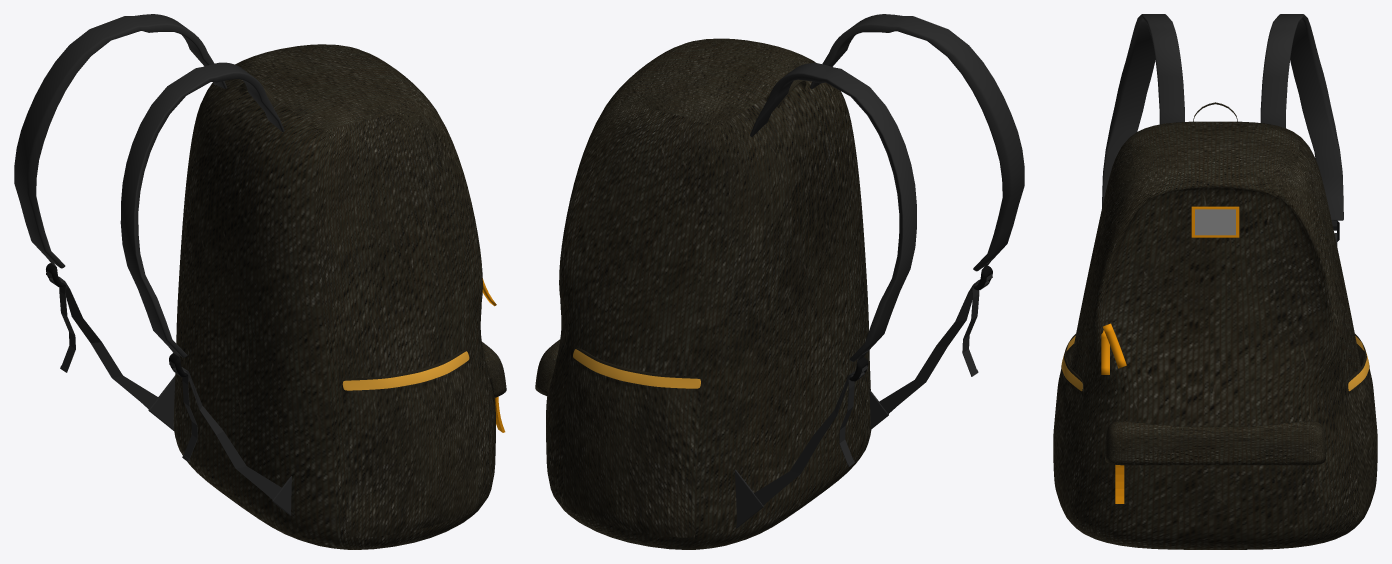
Rendered from bag01.glb.
The picture shows the model from 3 angles, left to right: view 1: azimuth 30°, elevation 25°; view 2: azimuth 150°, elevation 25°; view 3: azimuth 270°, elevation 25°; orthographic projection. The views are drawn at different scales.
Parts seen in each view (by area): view 1: bag; view 2: bag; view 3: bag.
Boxes of the visible parts, <box> form: bag: <box>14,14,506,549</box>; bag: <box>535,14,1024,549</box>; bag: <box>1053,14,1377,549</box>.
Size of the model in its own units: 0.2662 by 0.3328 by 0.2265.
6 materials, 1 textured.
